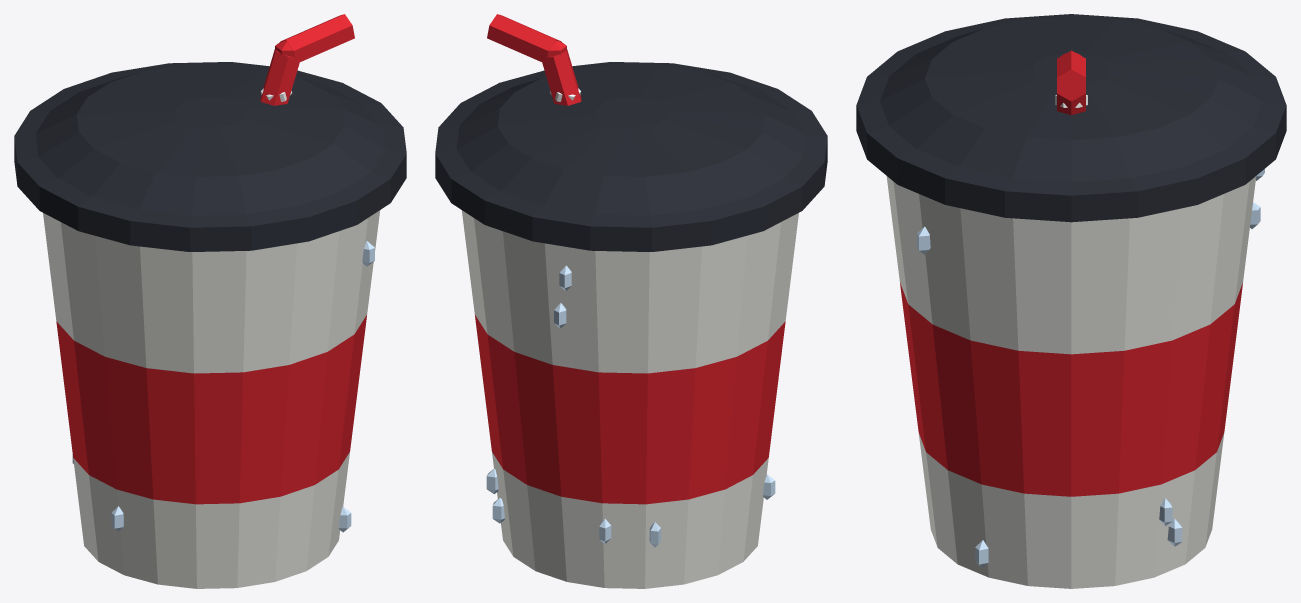
The model's file is soda_cup.glb.
3 views of the same model, side by side, from view 1: azimuth 30°, elevation 25°; view 2: azimuth 150°, elevation 25°; view 3: azimuth 270°, elevation 25° (orthographic). The views are drawn at different scales.
Visible parts, largest first — view 1: SodaCup; view 2: SodaCup; view 3: SodaCup.
Part boxes in pixels (x1,y1,x2,y2): SodaCup: [14, 14, 406, 588]; SodaCup: [435, 14, 827, 588]; SodaCup: [856, 14, 1286, 588].
Bounding box in the file's own units: 2.2 × 3 × 2.2.
